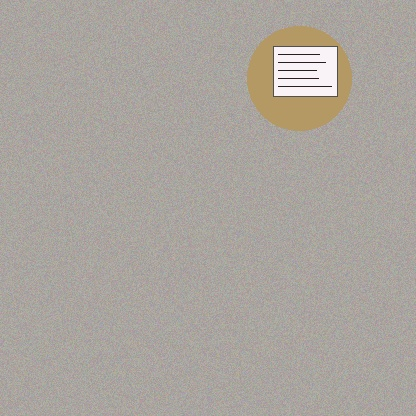exam_chit: (273, 46, 337, 96)
